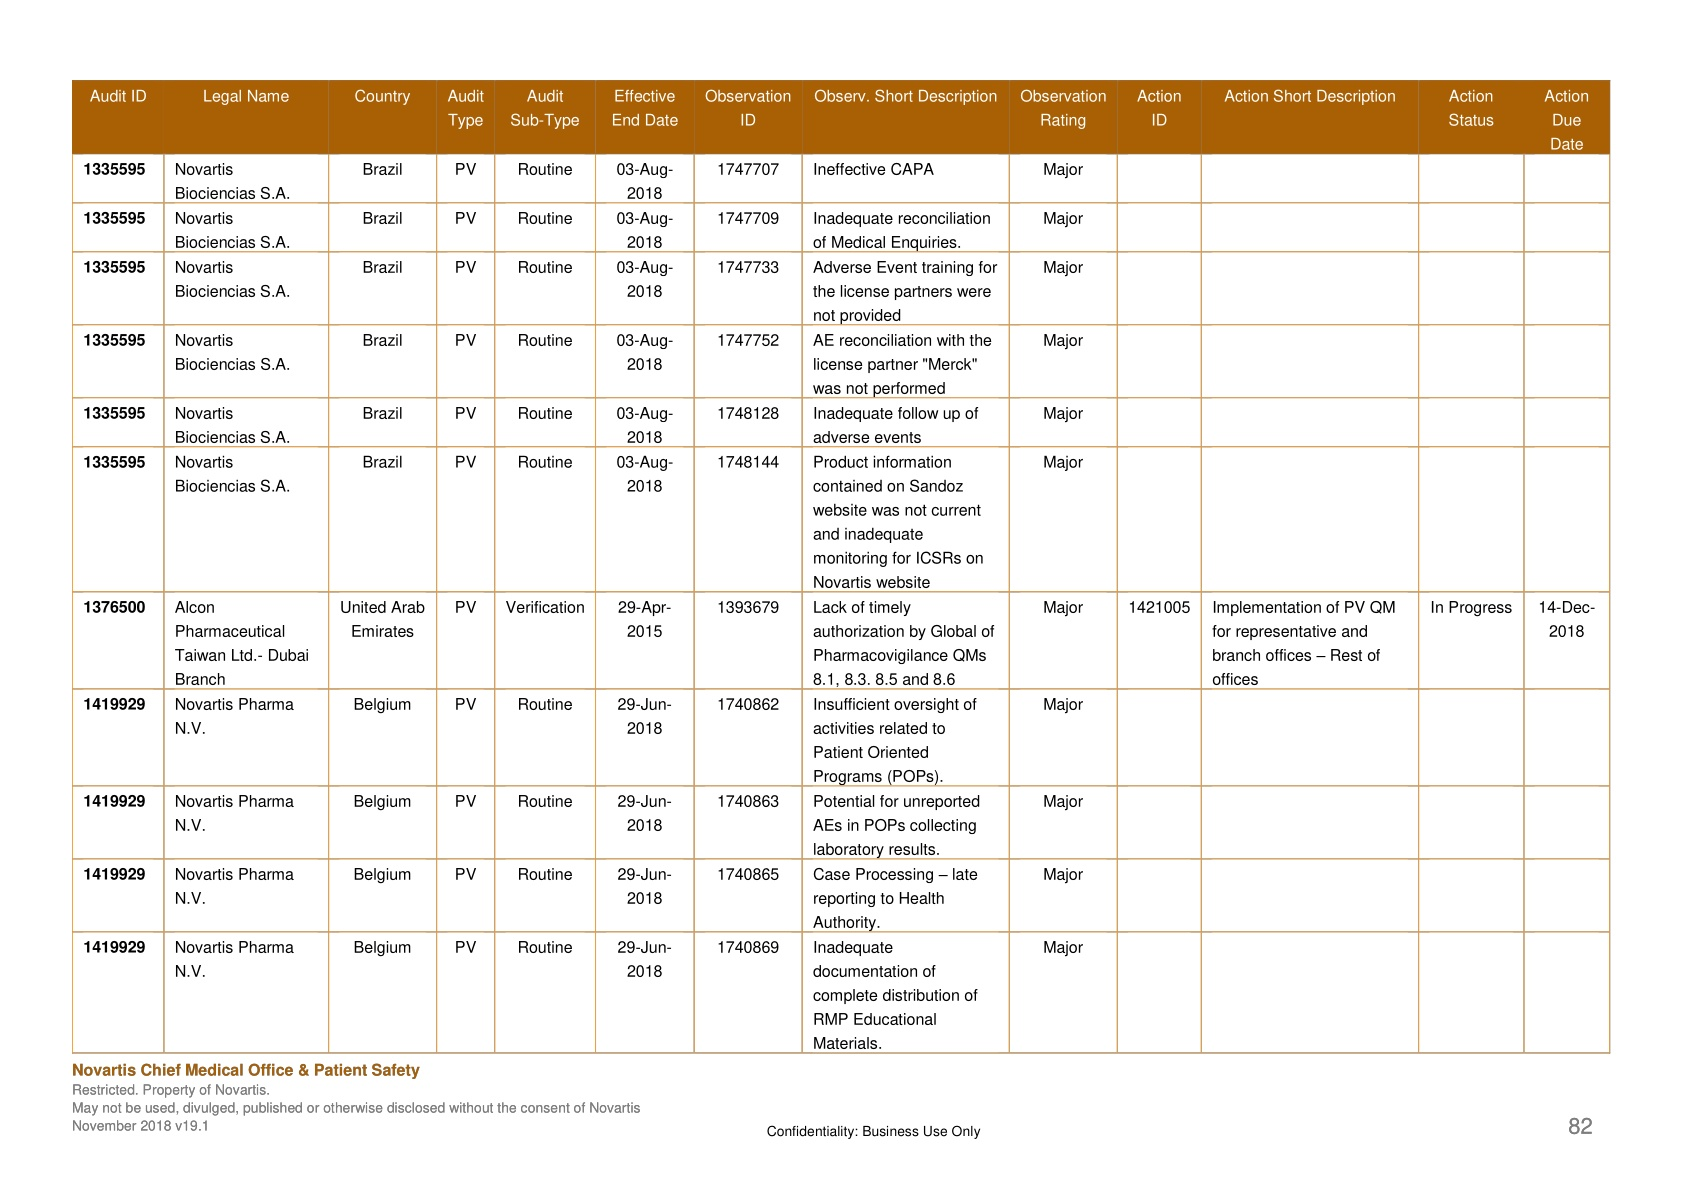full_lined: (72, 80, 1611, 1053)
